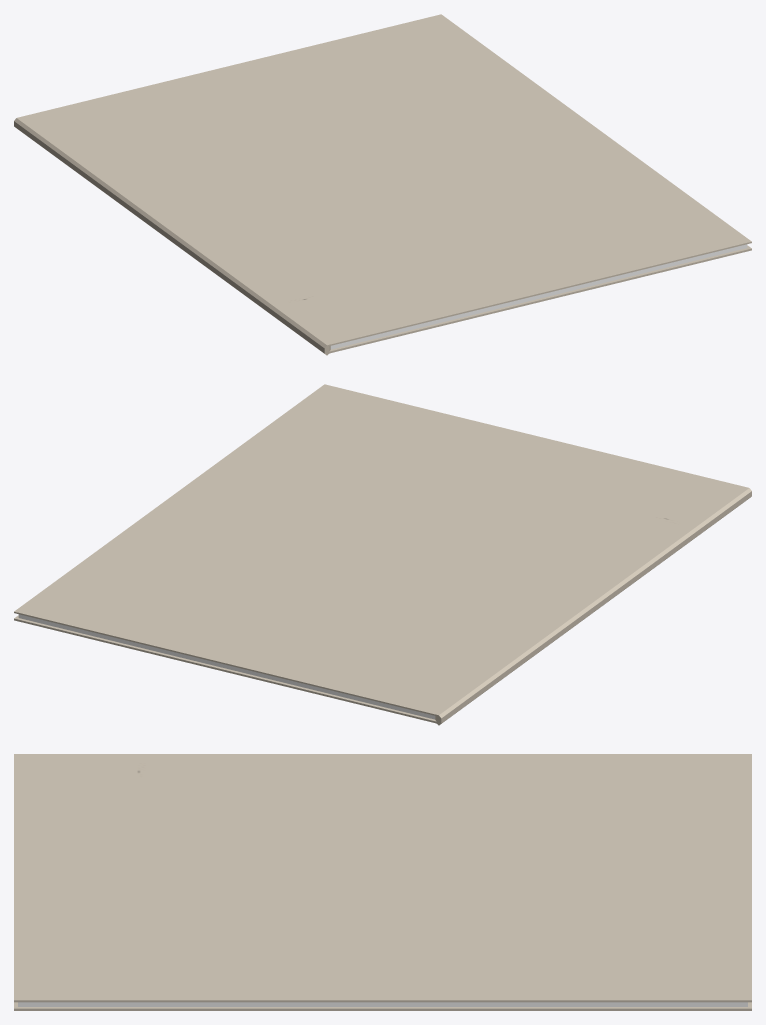
Rendered from magazen.fbx.
3 views of the same model, one above another, from view 1: azimuth 30°, elevation 25°; view 2: azimuth 150°, elevation 25°; view 3: azimuth 270°, elevation 25° (orthographic). The views are drawn at different scales.
Parts seen in each view (by area): view 1: magazeen; view 2: magazeen; view 3: magazeen.
Part boxes in pixels (x1=…): magazeen: x1=14, y1=14, x2=751, y2=355; magazeen: x1=14, y1=384, x2=751, y2=725; magazeen: x1=14, y1=754, x2=751, y2=1010.
Bounding box in the file's own units: 1.99 × 0.0464 × 2.51.
